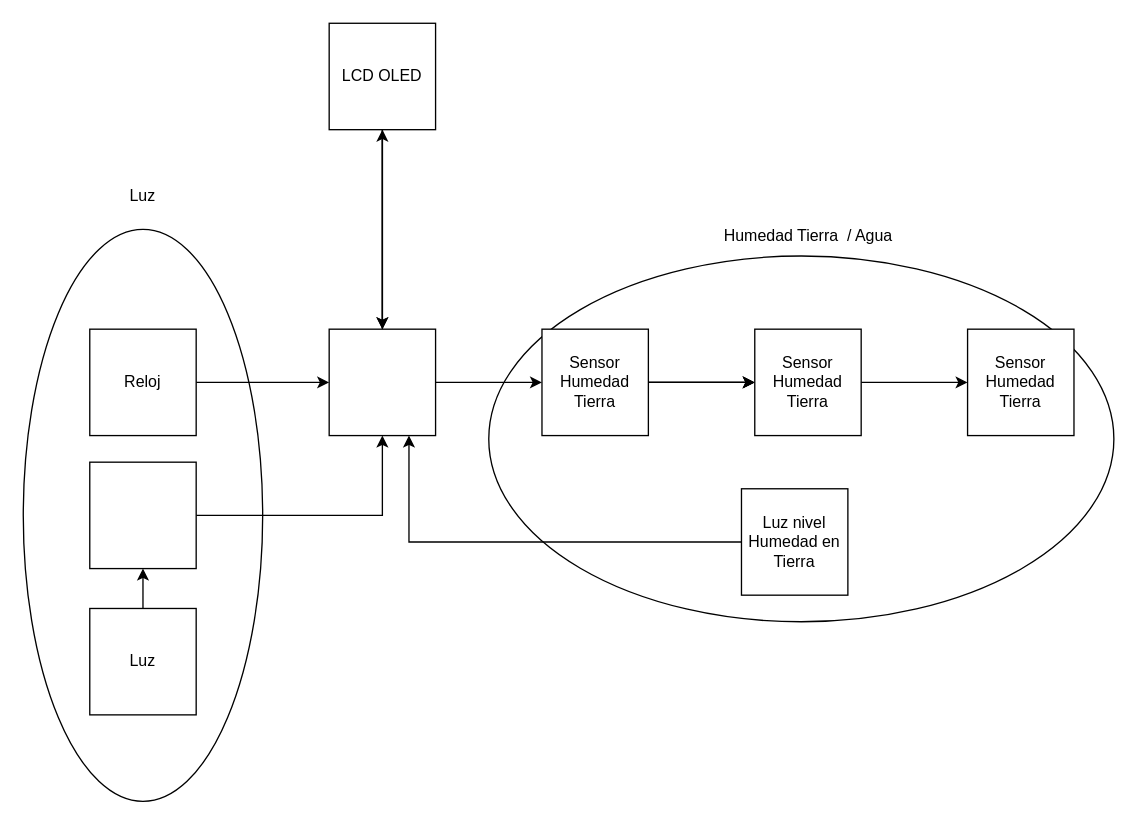
The diagram is 1137 pixels wide and 825 high, and some of its shapes have lost their labels. Each missing label, with the centre of its shape:
"Aurduino Mini (5 salidas analógicas)" goes at (382,382).
"Relé" goes at (142,515).
